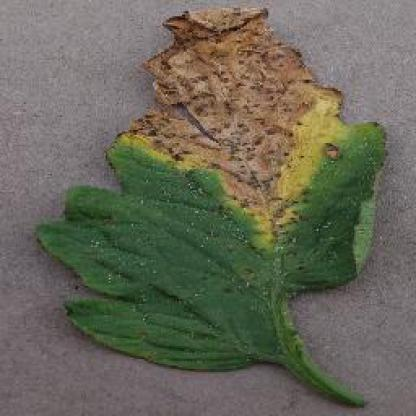bad leaf: (18, 9, 405, 415)
